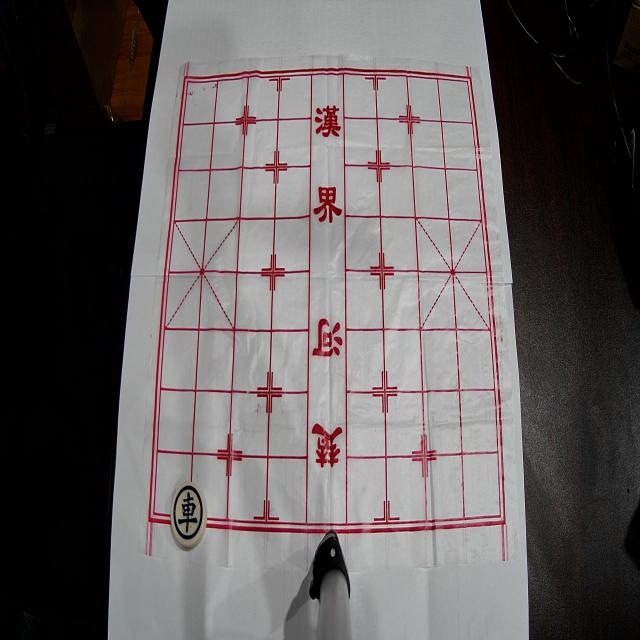black-chariot: (171, 482, 207, 548)
